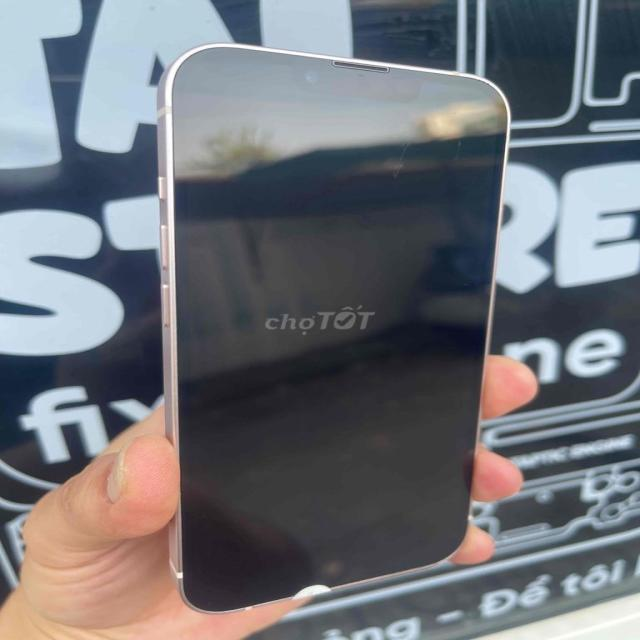gen_12_13: (148, 43, 518, 618)
